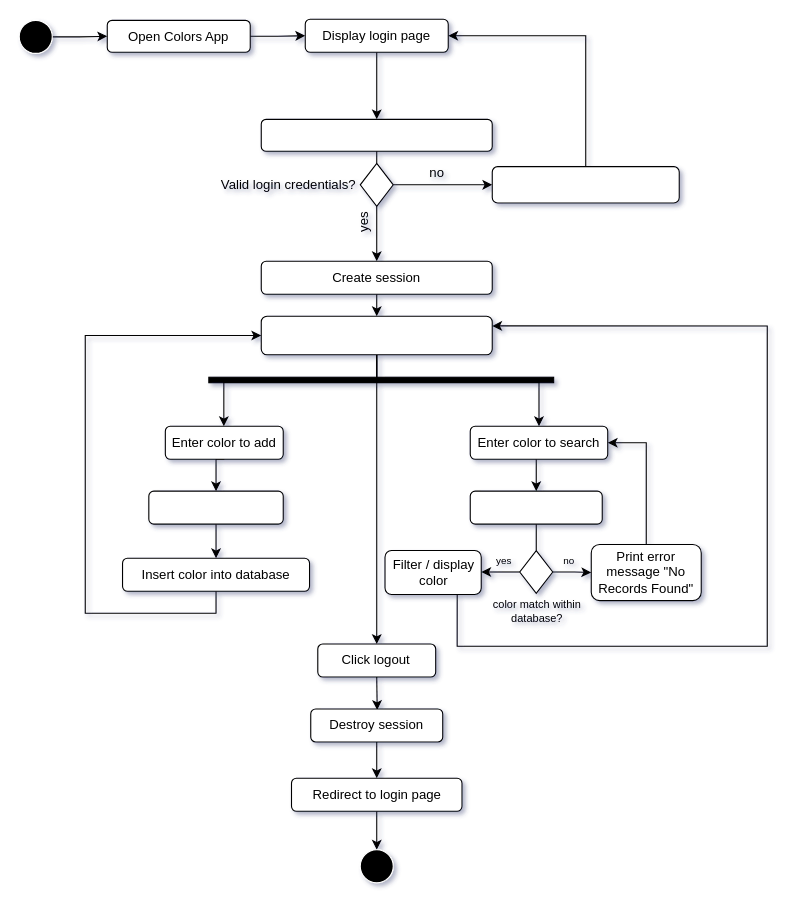
Image size: 802x909. Some labels were removed from this diagram. The centre of each missing label's shape, as x and y in pixels:
"Click Add Color" goes at [215,507].
"Click Search Color" goes at [535,507].
"Enter username and password" goes at [376,134].
"Print error message" goes at [585,184].
"Redirect to Colors Dashboard" goes at [376,335].
